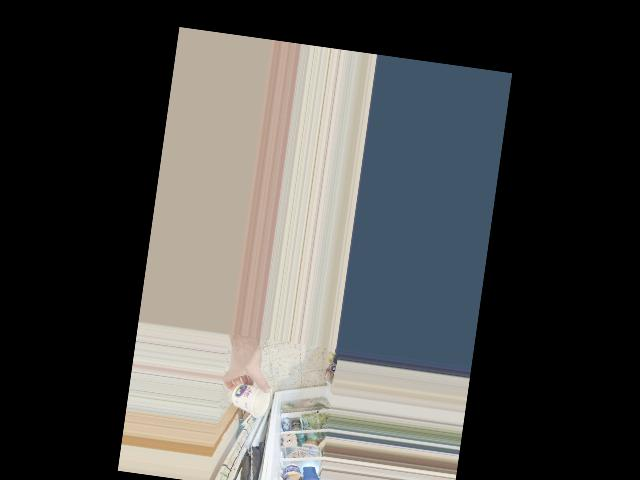cotage: (229, 379, 270, 417)
